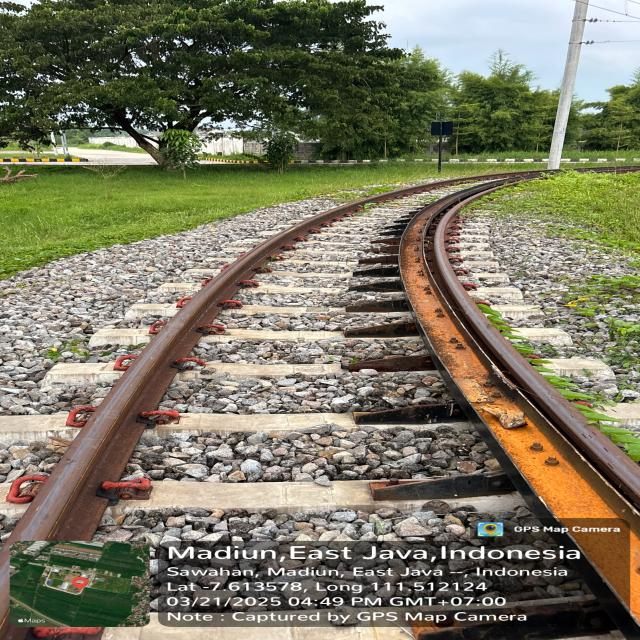rail-detection: (50, 170, 550, 507), (379, 173, 640, 640), (10, 201, 364, 541)
